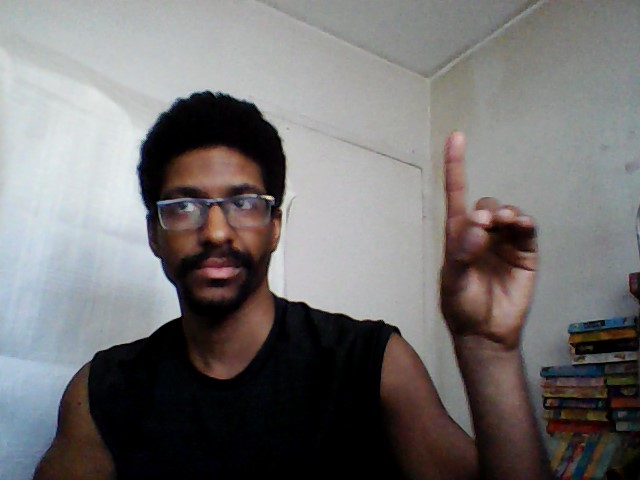d: (434, 124, 544, 351)
